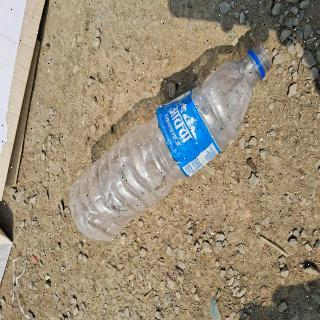Plastic-bottle: (68, 39, 281, 251)
